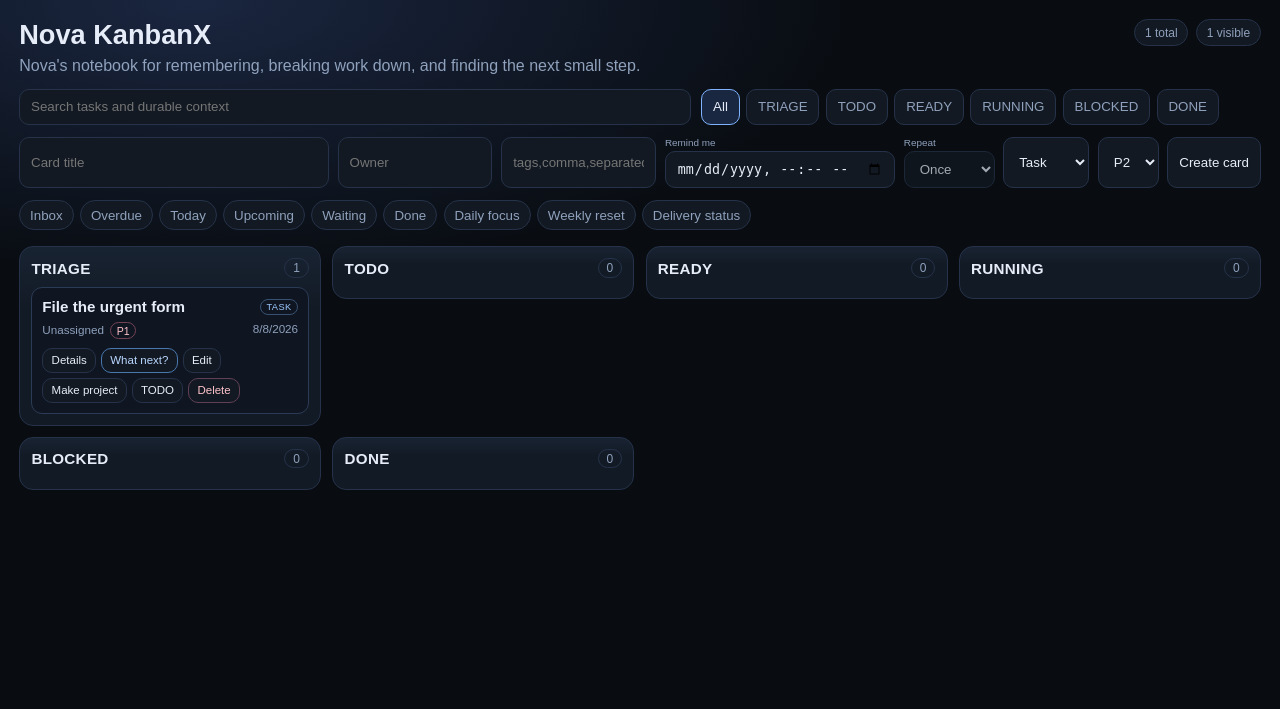
Test: App optimistic behavior › shows one daily focus, supports snoozing, and celebrates weekly wins
Expected: the heading "File the urgent form" is shown, [42,298,185,315]
Click the button "Daily focus". click: x=487, y=215
box: [444,200,531,230]
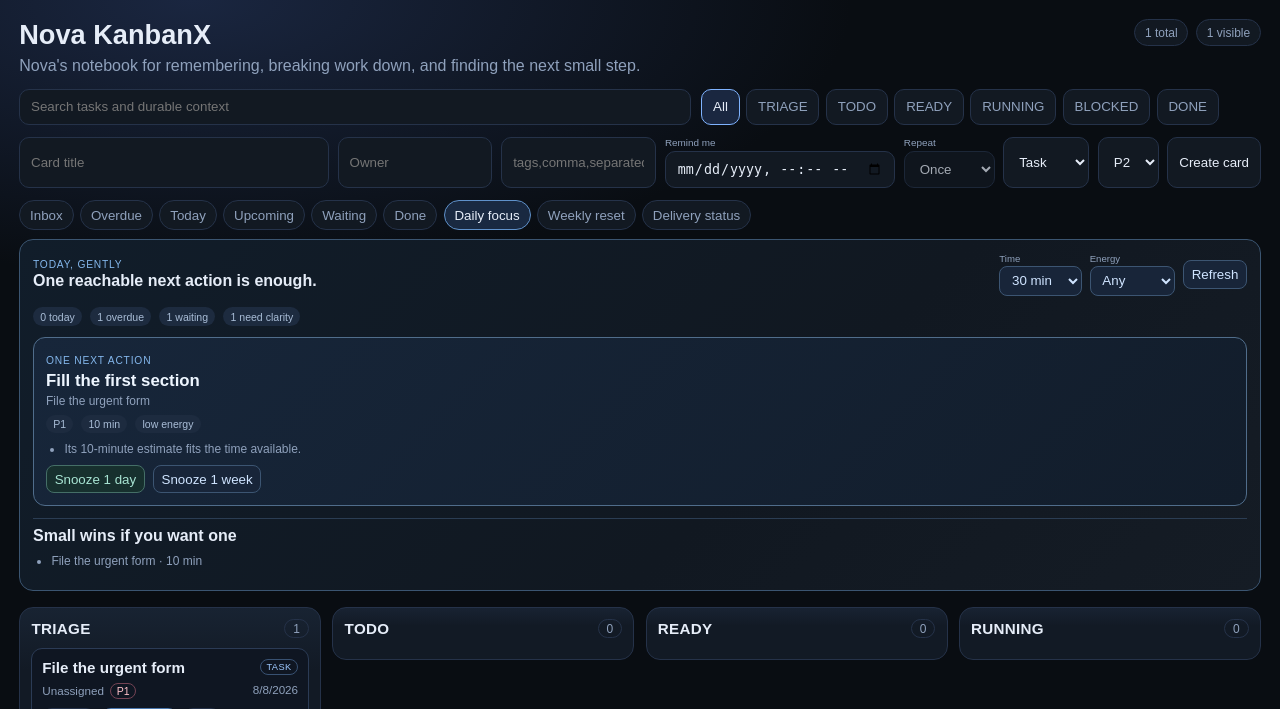
Expected: the text "One reachable next action is enough." is shown, [33,272,317,290]
Expected: the heading "Fill the first section" is shown, [46,371,200,390]
Expected: the list item "Its 10-minute estimate fits the time available." is shown, [64,442,301,456]
Click the button "Snooze 1 day". click: x=95, y=479
box: [46,465,145,493]
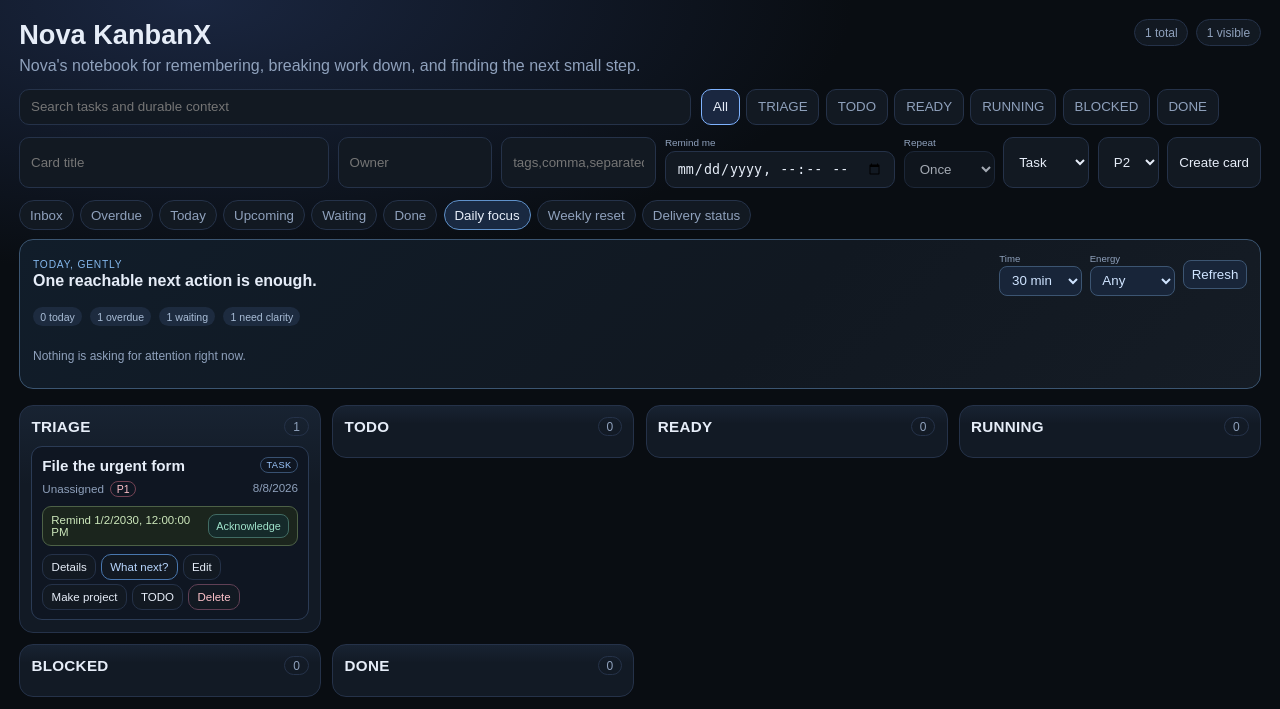
Expected: the text "Nothing is asking for attention right now." is shown, [33,349,246,363]
Click the button "Weekly reset". click: x=586, y=215
box: [537,200,636,230]
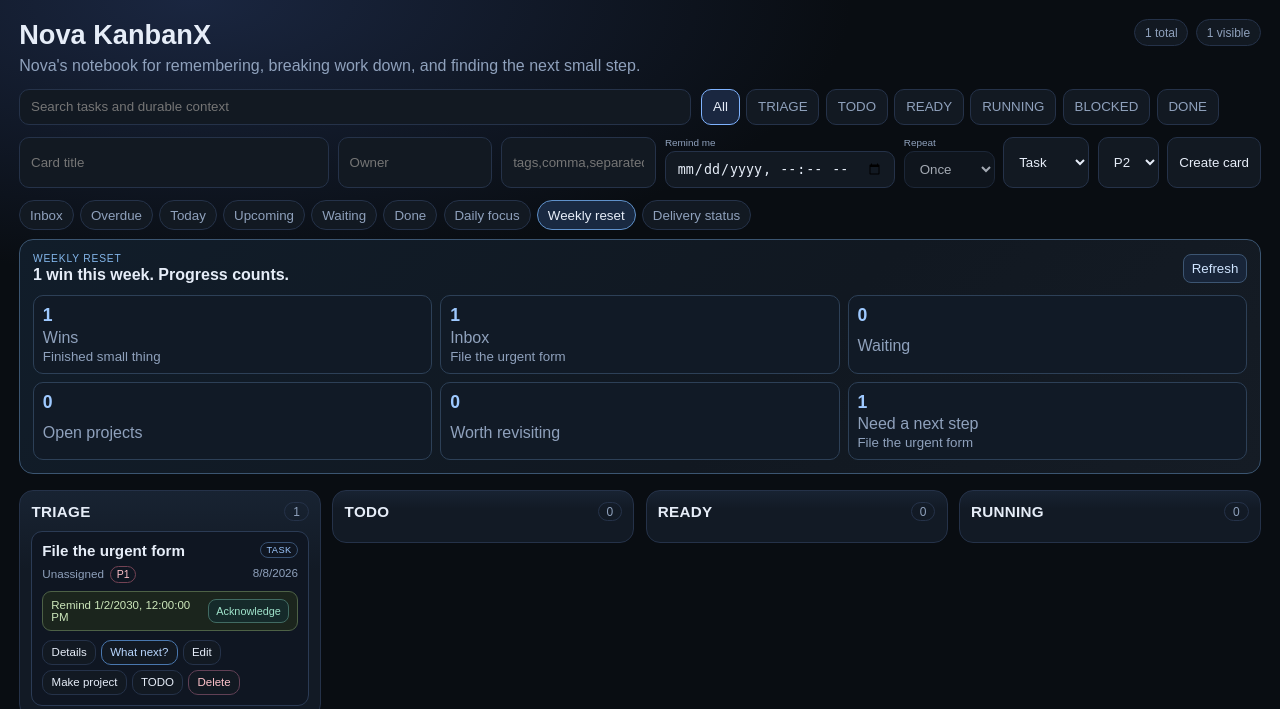
Expected: the text "1 win this week. Progress counts." is shown, [33,266,289,284]
Expected: the text "Finished small thing" is shown, [43,349,161,364]
